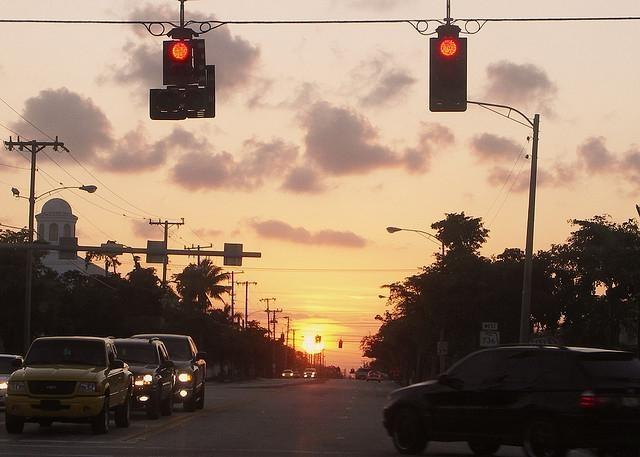car: (383, 341, 640, 457), (5, 335, 136, 436), (133, 330, 210, 412), (107, 336, 176, 419), (0, 354, 24, 412), (354, 368, 372, 380), (367, 371, 381, 382), (302, 368, 316, 378), (282, 370, 292, 376), (293, 372, 300, 376)
